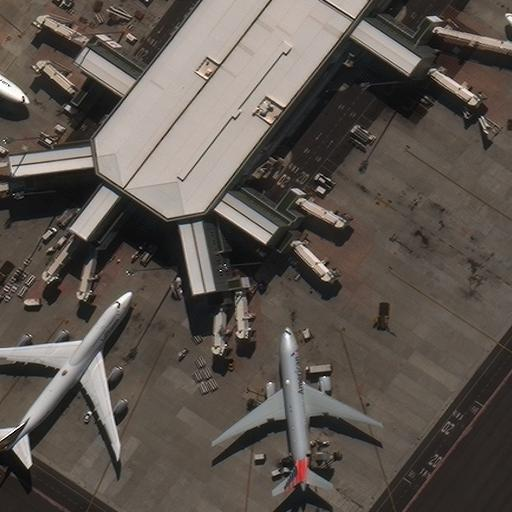Large Civil Transport: (223, 333, 370, 486), (0, 297, 125, 447), (0, 37, 31, 102)
